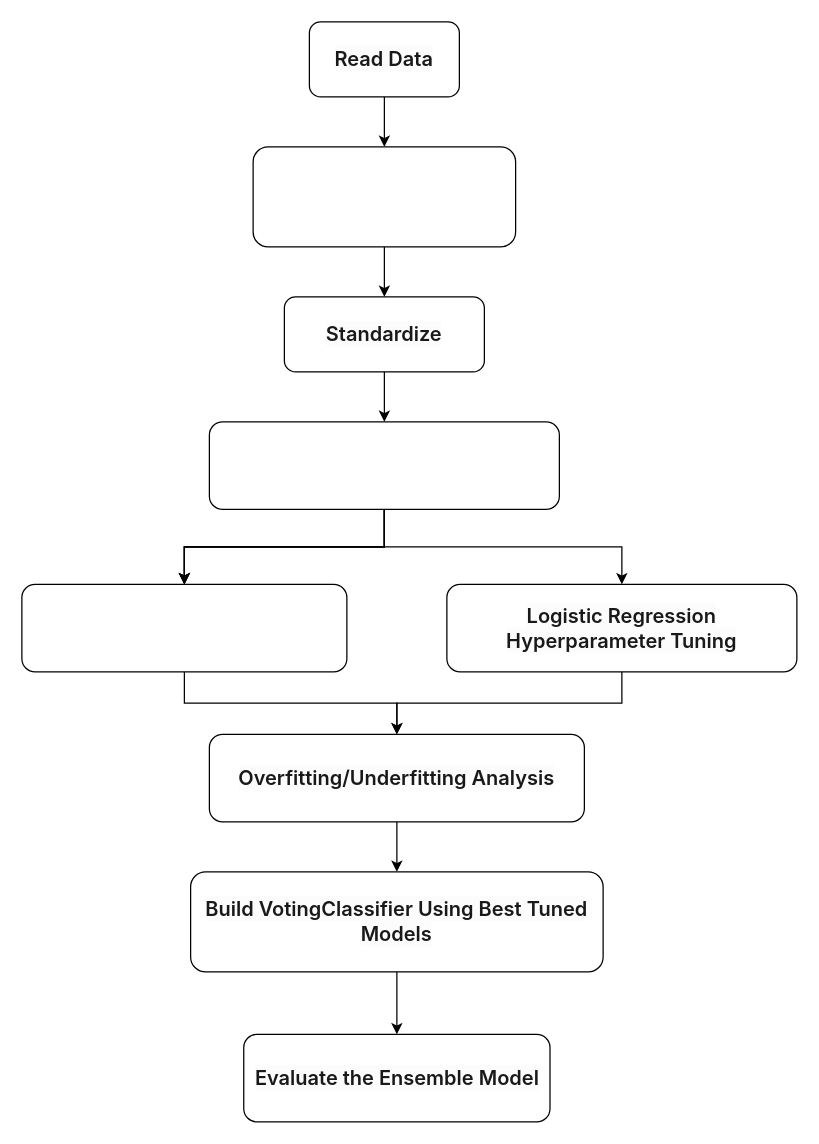
The diagram is 819 pixels wide and 1144 high, and some of its shapes have lost their labels. Here are the shapes that lost their labels. From the top down, the box of each, then its label:
(252, 146, 516, 247): Extract Features and Labels
(208, 421, 559, 509): Split Test Set (for final evaluation)
(21, 583, 347, 672): KNN Model Hyperparameter Tuning
